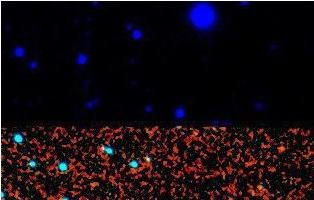star: (263, 133, 293, 163)
